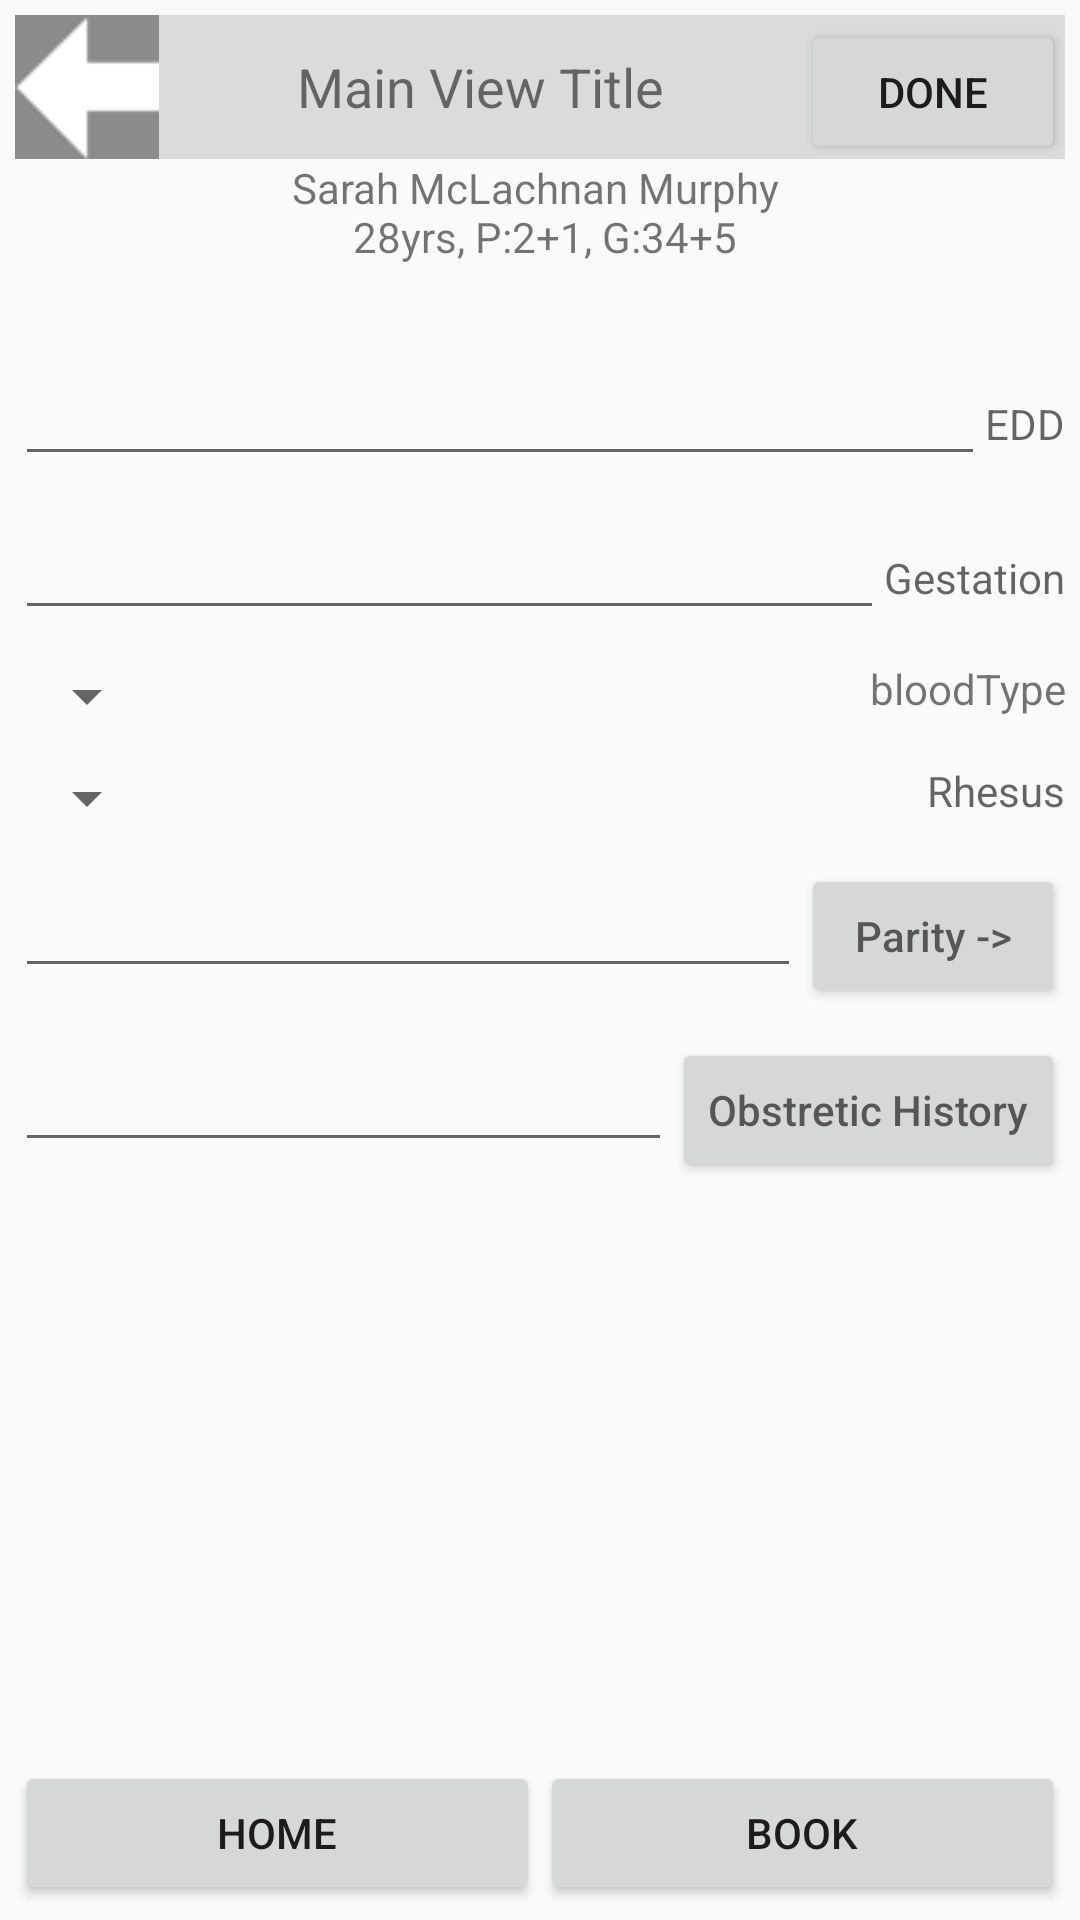

Icons on this 1080px x 1920px Android screen, each with the point to tap as (x=x, y=y):
back arrow: (x=87, y=87)
